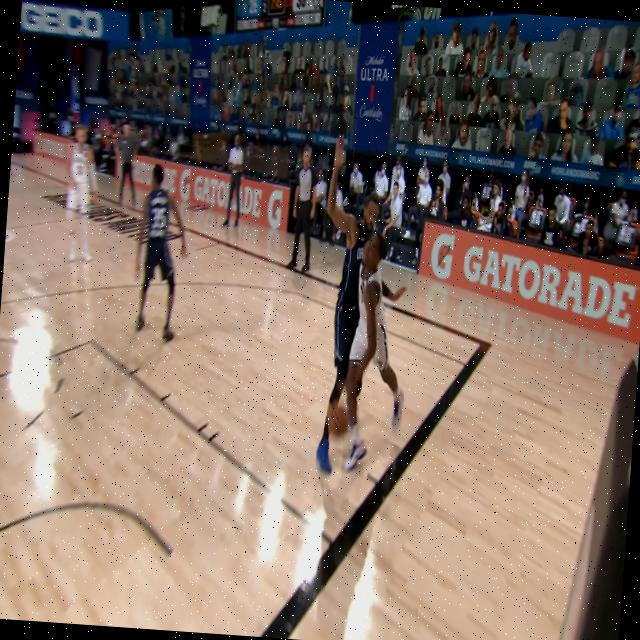Foul: (300, 170, 430, 492)
